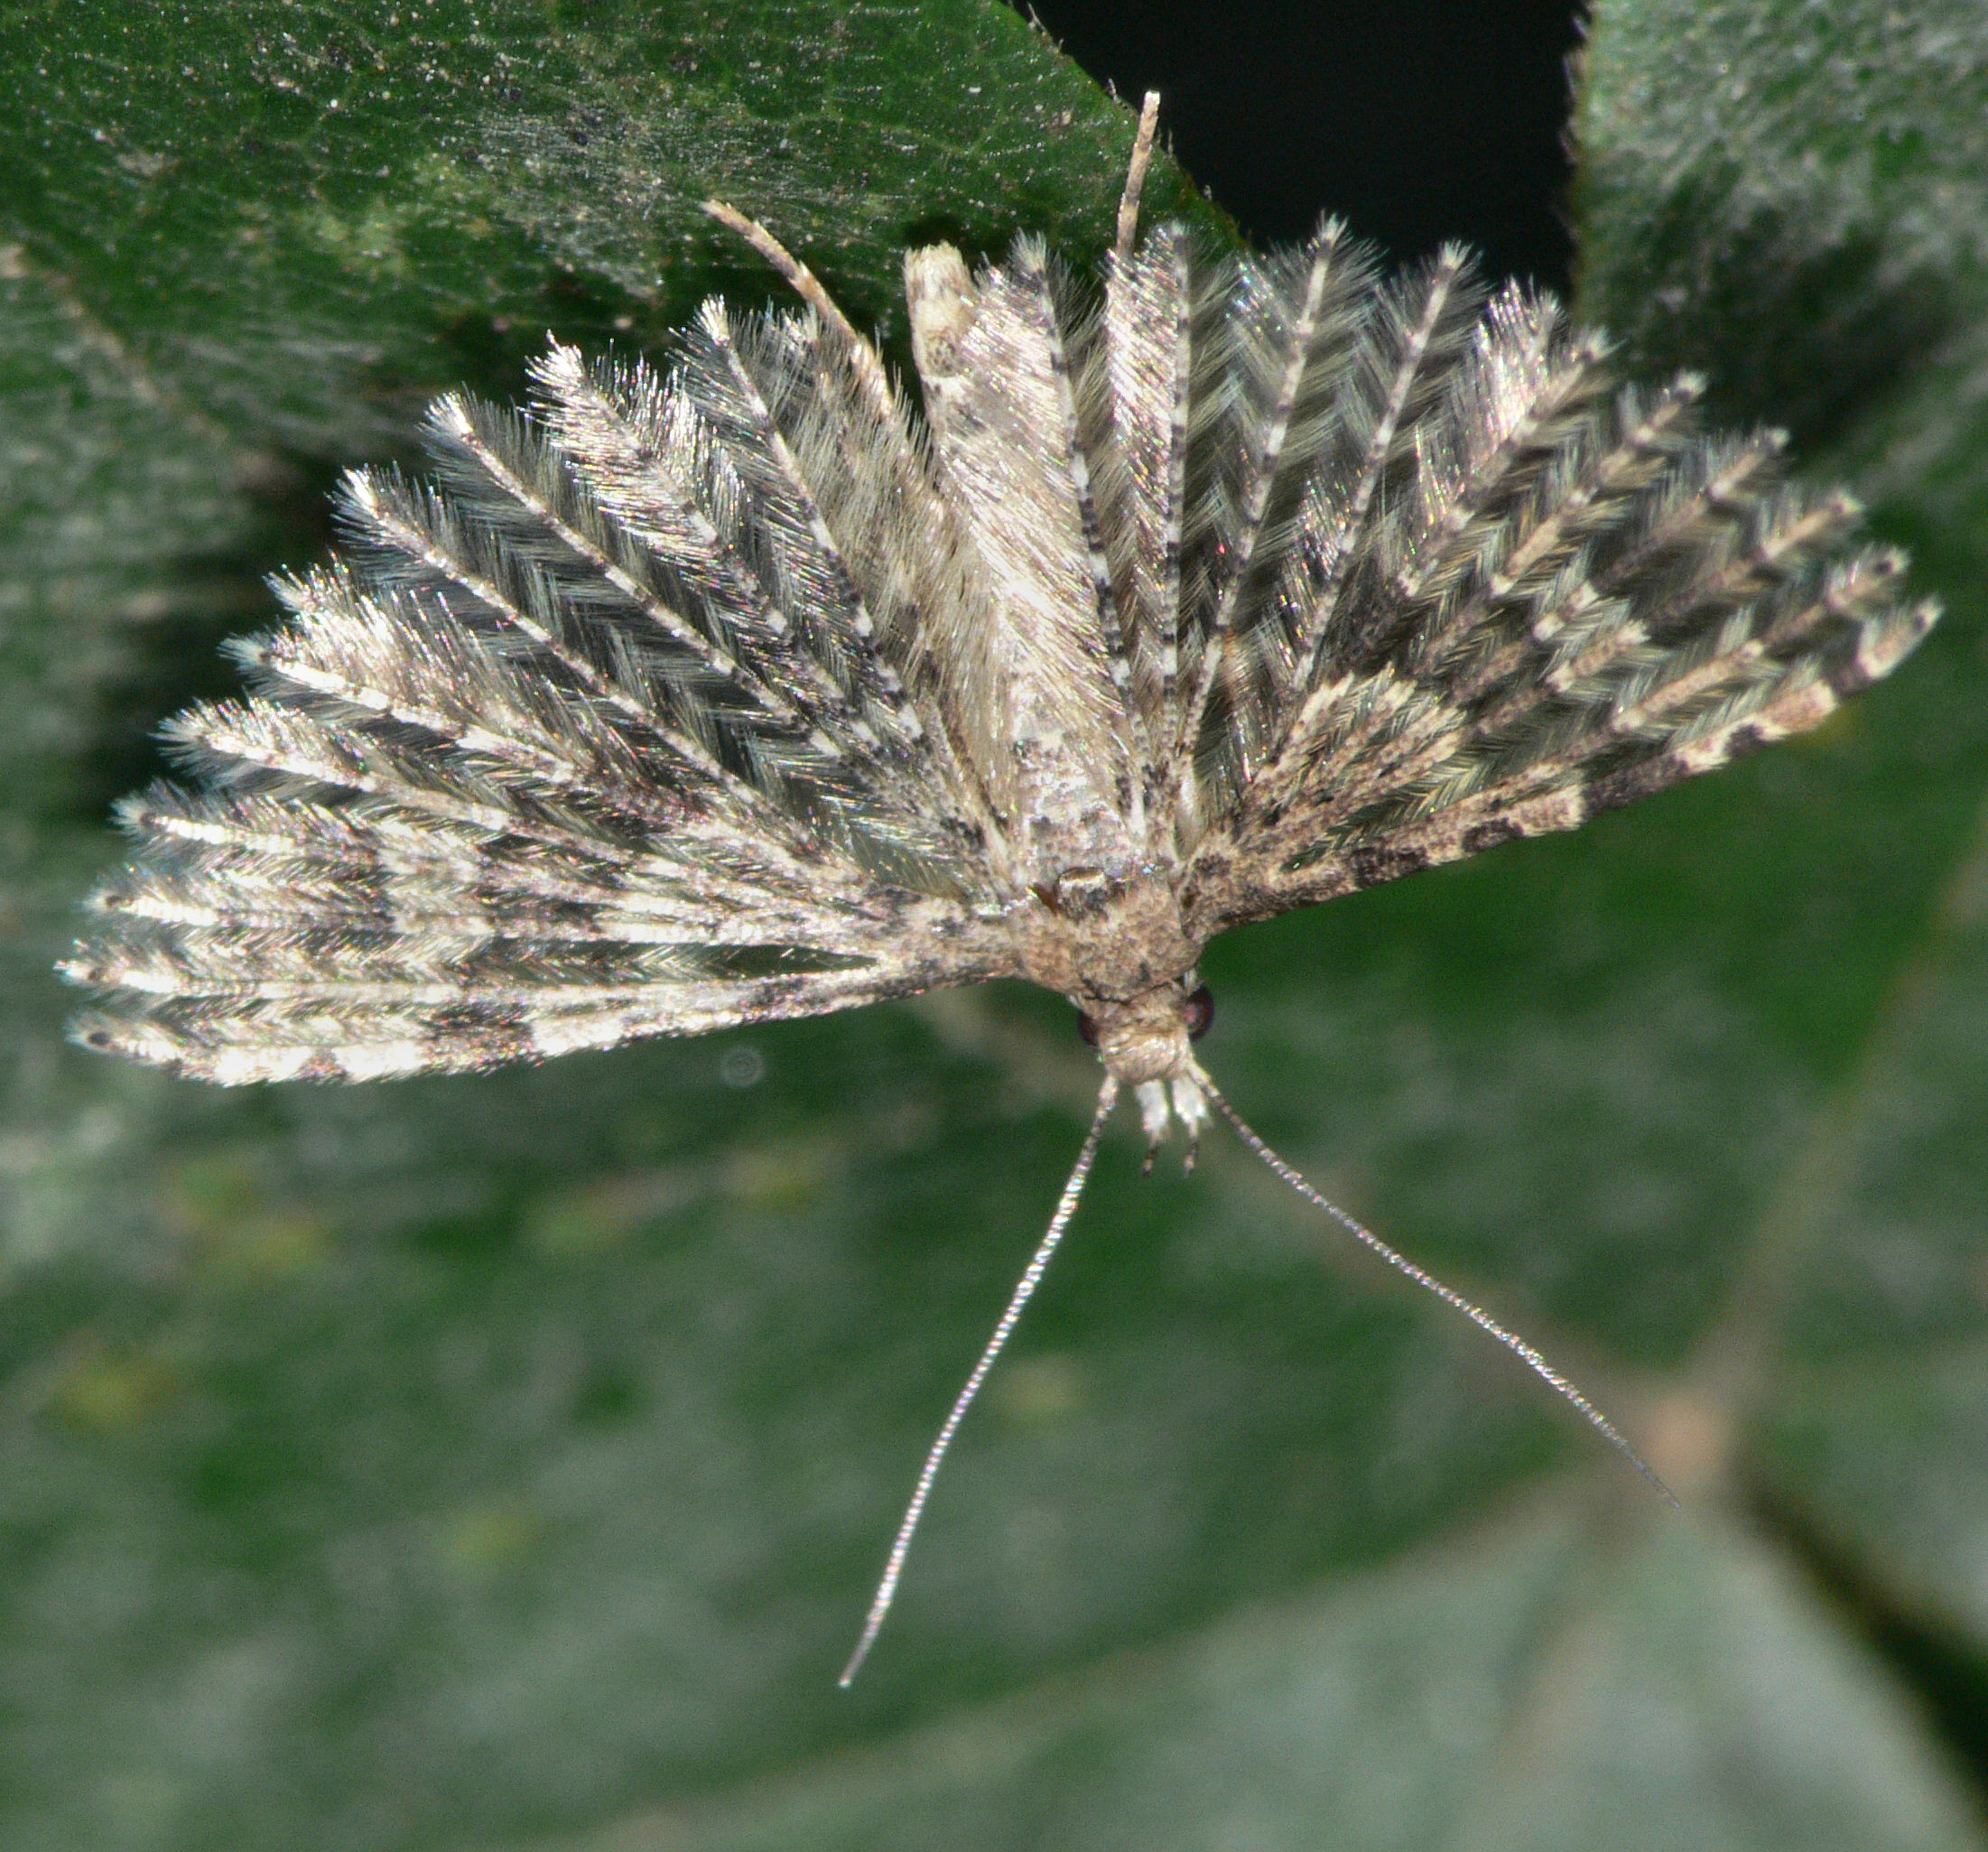Alucitidae: (66, 78, 1955, 1695)
moth: (68, 80, 1957, 1697)
